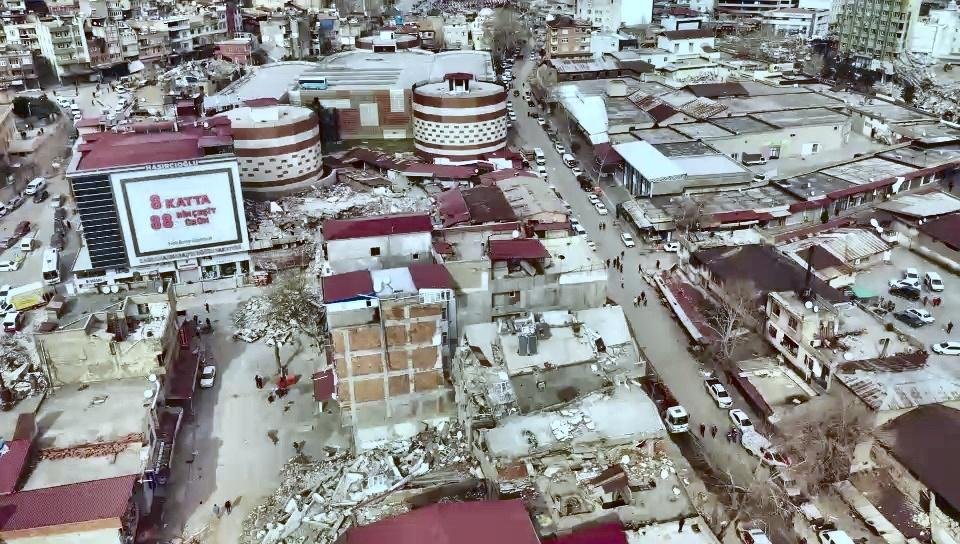kapali: (183, 429, 370, 543), (199, 277, 323, 367)
